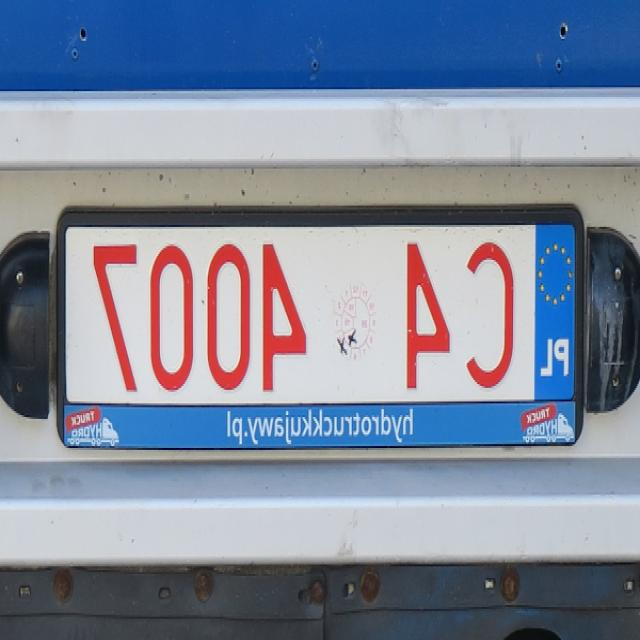pl_license_plate: (67, 223, 576, 398)
